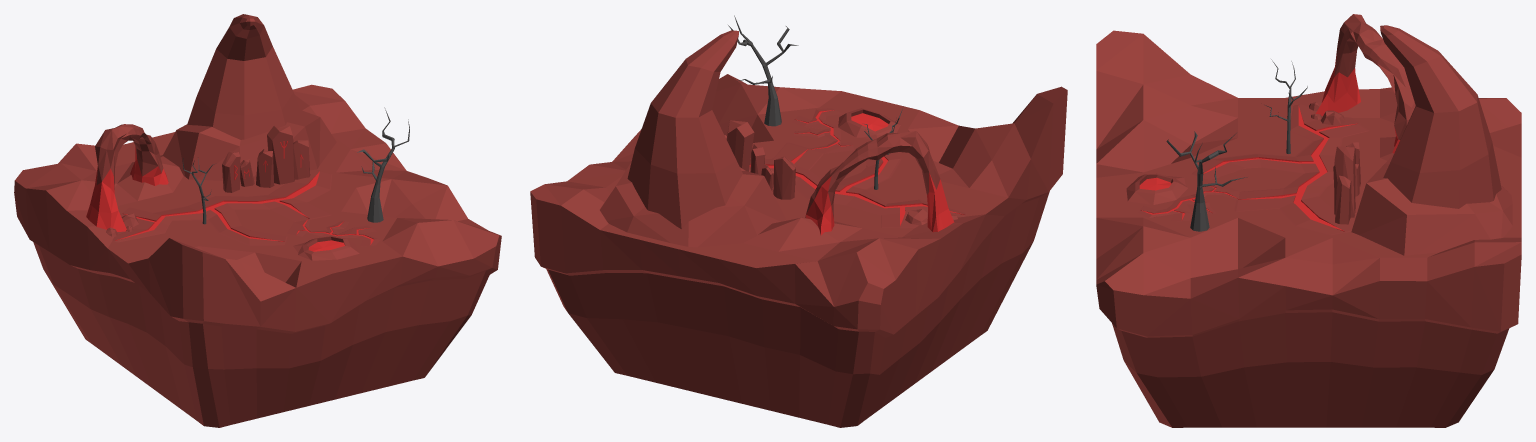
Rendered from Island_6.fbx.
The picture shows the model from 3 angles, left to right: view 1: azimuth 30°, elevation 25°; view 2: azimuth 150°, elevation 25°; view 3: azimuth 270°, elevation 25°; orthographic projection. The views are drawn at different scales.
Parts seen in each view (by area): view 1: Isl6_Base, Isl6_Mountain_1, Isl6_Rock_1, Isl6_Stones_with_runes, Isl6_Puddle, Isl6_Tree_1; view 2: Isl6_Base, Isl6_Mountain_1, Isl6_Rock_1, Isl6_Stones_with_runes, Isl6_Puddle, Isl6_Tree_1; view 3: Isl6_Base, Isl6_Mountain_1, Isl6_Rock_1, Isl6_Stones_with_runes, Isl6_Puddle, Isl6_Tree_1, Isl6_Tree_2, Isl6_Stones_1.
Boxes of the visible parts, left/top/right/bottom form: Isl6_Base: left=14, top=84, right=501, bottom=427; Isl6_Mountain_1: left=162, top=14, right=336, bottom=181; Isl6_Rock_1: left=86, top=124, right=168, bottom=231; Isl6_Stones_with_runes: left=222, top=126, right=310, bottom=192; Isl6_Puddle: left=293, top=236, right=359, bottom=260; Isl6_Tree_1: left=357, top=107, right=409, bottom=222; Isl6_Base: left=530, top=74, right=1067, bottom=427; Isl6_Mountain_1: left=600, top=30, right=785, bottom=247; Isl6_Rock_1: left=805, top=131, right=954, bottom=235; Isl6_Stones_with_runes: left=724, top=120, right=795, bottom=199; Isl6_Puddle: left=838, top=108, right=900, bottom=139; Isl6_Tree_1: left=728, top=15, right=798, bottom=126; Isl6_Base: left=1096, top=30, right=1521, bottom=427; Isl6_Mountain_1: left=1351, top=25, right=1512, bottom=255; Isl6_Rock_1: left=1315, top=14, right=1415, bottom=153; Isl6_Stones_with_runes: left=1333, top=142, right=1360, bottom=224; Isl6_Puddle: left=1126, top=173, right=1187, bottom=204; Isl6_Tree_1: left=1166, top=131, right=1247, bottom=231; Isl6_Tree_2: left=1265, top=59, right=1307, bottom=153; Isl6_Stones_1: left=1309, top=102, right=1345, bottom=125.
Size of the model in its own units: 2000 by 2000 by 1837.
